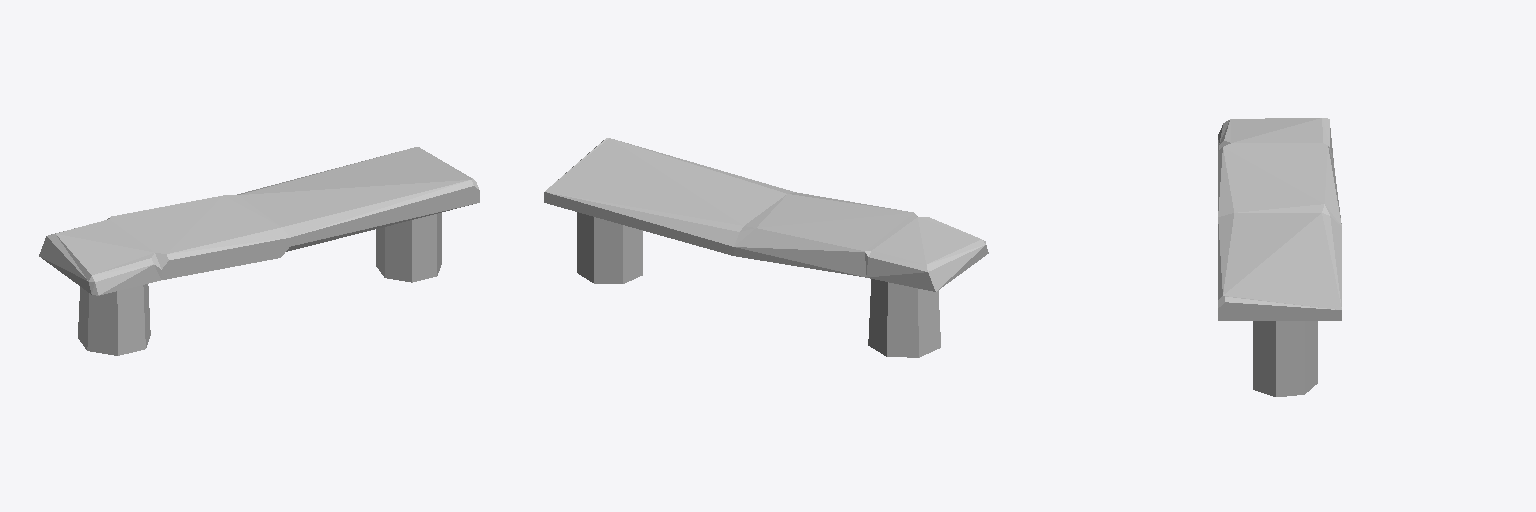
File: Bench_1.obj
3 renders of one model, left to right at view 1: azimuth 30°, elevation 25°; view 2: azimuth 150°, elevation 25°; view 3: azimuth 270°, elevation 25°, orthographic.
Parts seen in each view (by area): view 1: Bench_1; view 2: Bench_1; view 3: Bench_1.
Boxes of the visible parts, x1,y1,x2,y2 form: Bench_1: [39, 147, 479, 355]; Bench_1: [544, 138, 988, 357]; Bench_1: [1218, 118, 1341, 396].
Size of the model in its own units: 2.04 by 0.5239 by 0.5682.